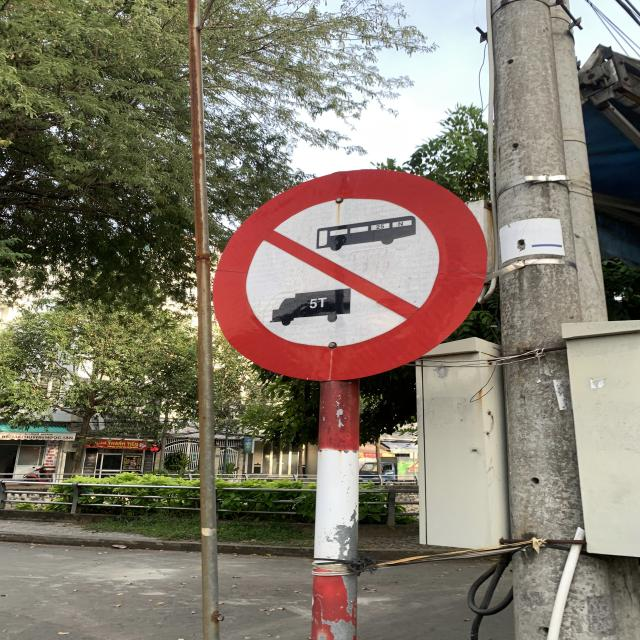Cam_XeTai_XeKhach: (223, 168, 491, 378)
